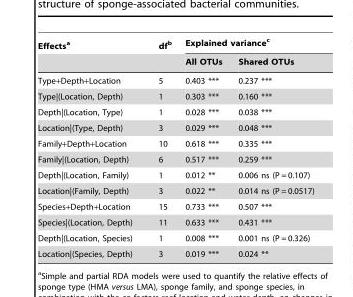table: (37, 36, 313, 258)
table column: (37, 36, 144, 258), (229, 36, 313, 258), (177, 36, 229, 258), (144, 36, 177, 258)
table column header: (37, 36, 313, 69)
table row: (37, 69, 313, 88), (37, 36, 313, 53), (37, 134, 313, 151), (37, 197, 313, 214), (37, 53, 313, 69), (37, 88, 313, 104), (37, 151, 313, 167), (37, 214, 313, 230), (37, 104, 313, 119), (37, 119, 313, 134), (37, 167, 313, 182), (37, 182, 313, 197), (37, 230, 313, 245), (37, 245, 313, 258)
table spanning cell: (37, 36, 144, 69), (177, 36, 313, 53), (144, 36, 177, 69)
